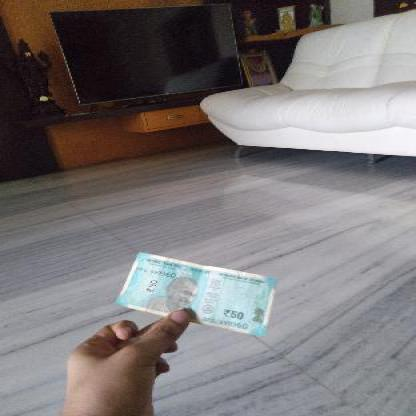New50Front: (120, 251, 279, 332)
